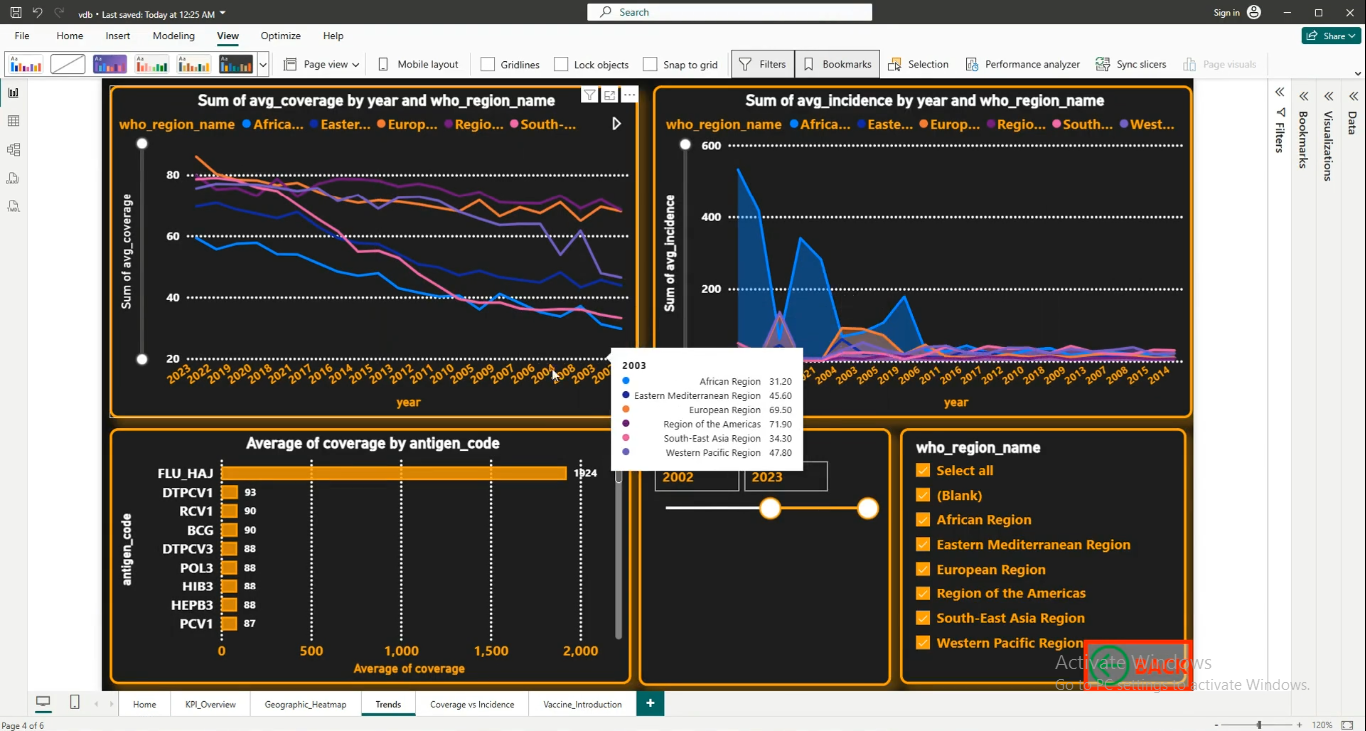

Layout of this report page (visuals, bound fields, positions):
{"tool":"powerbi","page":{"name":"Trends","canvas":[1280,720],"ordinal":3},"visuals":[{"type":"lineChart","fields":{"Category":["pbi_region_kpi.year"],"Series":["pbi_region_kpi.who_region_name"],"Y":["Sum(pbi_region_kpi.avg_coverage)"]},"box":[9.3,8.2,620.5,391],"z":0},{"type":"areaChart","fields":{"Category":["pbi_region_kpi.year"],"Series":["pbi_region_kpi.who_region_name"],"Y":["Sum(pbi_region_kpi.avg_incidence)"]},"box":[640,8.2,632.8,391],"z":1000},{"type":"clusteredBarChart","fields":{"Category":["pbi_coverage.antigen_code"],"Y":["Sum(pbi_coverage.coverage)"]},"box":[9.3,410.5,612.2,301.5],"z":2000},{"type":"slicer","fields":{"Values":["Dim_Year.year"]},"box":[629.7,409.5,296.3,302.5],"z":3000},{"type":"slicer","fields":{"Values":["dim_who_region.who_region_name"]},"box":[936.3,410.5,336.5,301.5],"z":4000},{"type":"actionButton","box":[1152.2,660,127.8,60],"z":4001}]}

Visuals, with their boxes on the page's 1280x720 design canvas (x1, y1, x2, y2). These are canvas units, not pixel positions in the 1366x731 screenshot, which may show the page scaled, cropped or inside an application window:
lineChart - pbi_region_kpi.year x pbi_region_kpi.who_region_name: left=9, top=8, right=630, bottom=399
areaChart - pbi_region_kpi.year x pbi_region_kpi.who_region_name: left=640, top=8, right=1273, bottom=399
clusteredBarChart - pbi_coverage.antigen_code x Sum(pbi_coverage.coverage): left=9, top=410, right=622, bottom=712
slicer - Dim_Year.year: left=630, top=410, right=926, bottom=712
slicer - dim_who_region.who_region_name: left=936, top=410, right=1273, bottom=712
actionButton: left=1152, top=660, right=1280, bottom=720
